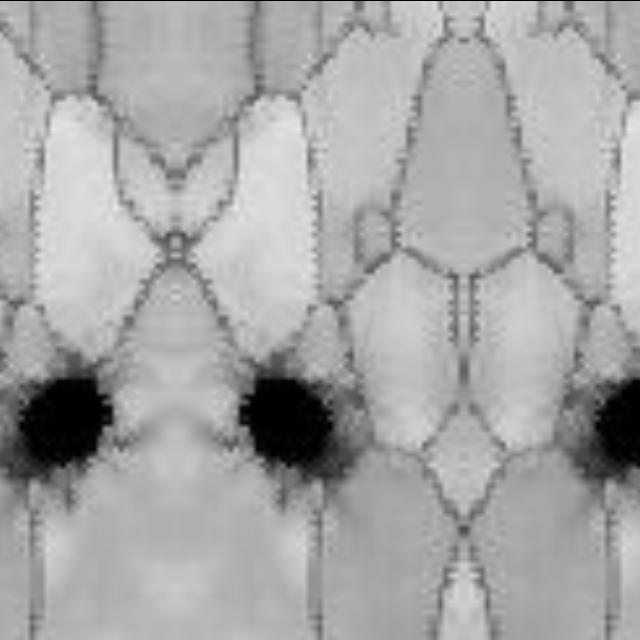good_void: (216, 350, 372, 514), (0, 350, 137, 514), (558, 356, 640, 511)
